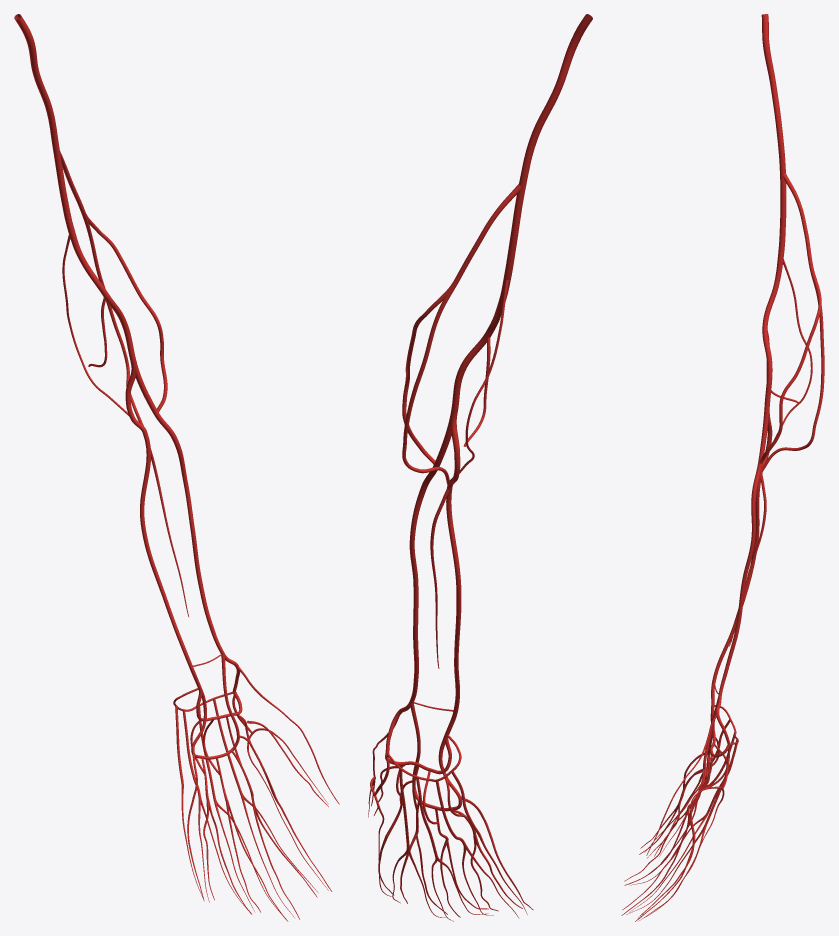
Rendered from circulatorio-brachial-artery-l.glb.
3 renders of one model, left to right at view 1: azimuth 30°, elevation 25°; view 2: azimuth 150°, elevation 25°; view 3: azimuth 270°, elevation 25°, orthographic. The views are drawn at different scales.
Visible parts, largest first — view 1: Brachial artery.l, Proper palmar digital arteries.l, Dorsal digital arteries of hand.l, Radial artery.l, Ulnar artery.l, Dorsal metacarpal arteries.l, Radial collateral artery.l, Superficial palmar arch.l; view 2: Brachial artery.l, Radial artery.l, Proper palmar digital arteries.l, Ulnar artery.l, Dorsal digital arteries of hand.l, Dorsal metacarpal arteries.l, Radial collateral artery.l, Superficial palmar arch.l, Deep brachial artery.l, Superior ulnar collateral artery.l, Middle collateral artery.l, Recurrent interosseous artery.l (+3 smaller); view 3: Brachial artery.l, Proper palmar digital arteries.l, Radial artery.l, Dorsal digital arteries of hand.l, Ulnar artery.l, Radial collateral artery.l, Dorsal metacarpal arteries.l, Recurrent interosseous artery.l, Deep brachial artery.l.
Boxes of the visible parts, x1=… form: Brachial artery.l: x1=14, y1=14, x2=136, y2=362; Proper palmar digital arteries.l: x1=187, y1=666, x2=339, y2=921; Dorsal digital arteries of hand.l: x1=181, y1=728, x2=328, y2=917; Radial artery.l: x1=133, y1=361, x2=240, y2=692; Ulnar artery.l: x1=125, y1=363, x2=201, y2=689; Dorsal metacarpal arteries.l: x1=175, y1=692, x2=252, y2=797; Radial collateral artery.l: x1=84, y1=210, x2=167, y2=412; Superficial palmar arch.l: x1=191, y1=654, x2=239, y2=759; Brachial artery.l: x1=451, y1=14, x2=592, y2=413; Radial artery.l: x1=385, y1=412, x2=452, y2=754; Proper palmar digital arteries.l: x1=371, y1=717, x2=533, y2=917; Ulnar artery.l: x1=445, y1=413, x2=461, y2=735; Dorsal digital arteries of hand.l: x1=368, y1=776, x2=527, y2=921; Dorsal metacarpal arteries.l: x1=374, y1=754, x2=479, y2=856; Radial collateral artery.l: x1=402, y1=279, x2=456, y2=464; Superficial palmar arch.l: x1=410, y1=703, x2=461, y2=811; Deep brachial artery.l: x1=454, y1=184, x2=520, y2=281; Superior ulnar collateral artery.l: x1=465, y1=280, x2=508, y2=457; Middle collateral artery.l: x1=412, y1=280, x2=458, y2=394; Recurrent interosseous artery.l: x1=402, y1=393, x2=449, y2=486; Brachial artery.l: x1=761, y1=14, x2=786, y2=406; Proper palmar digital arteries.l: x1=621, y1=714, x2=716, y2=921; Radial artery.l: x1=716, y1=406, x2=769, y2=744; Dorsal digital arteries of hand.l: x1=626, y1=773, x2=724, y2=921; Ulnar artery.l: x1=711, y1=406, x2=772, y2=706; Radial collateral artery.l: x1=759, y1=266, x2=821, y2=463; Dorsal metacarpal arteries.l: x1=705, y1=719, x2=737, y2=821; Recurrent interosseous artery.l: x1=762, y1=373, x2=824, y2=471; Deep brachial artery.l: x1=783, y1=173, x2=813, y2=267.
Size of the model in its own units: 0.1993 by 0.6589 by 0.1492.
